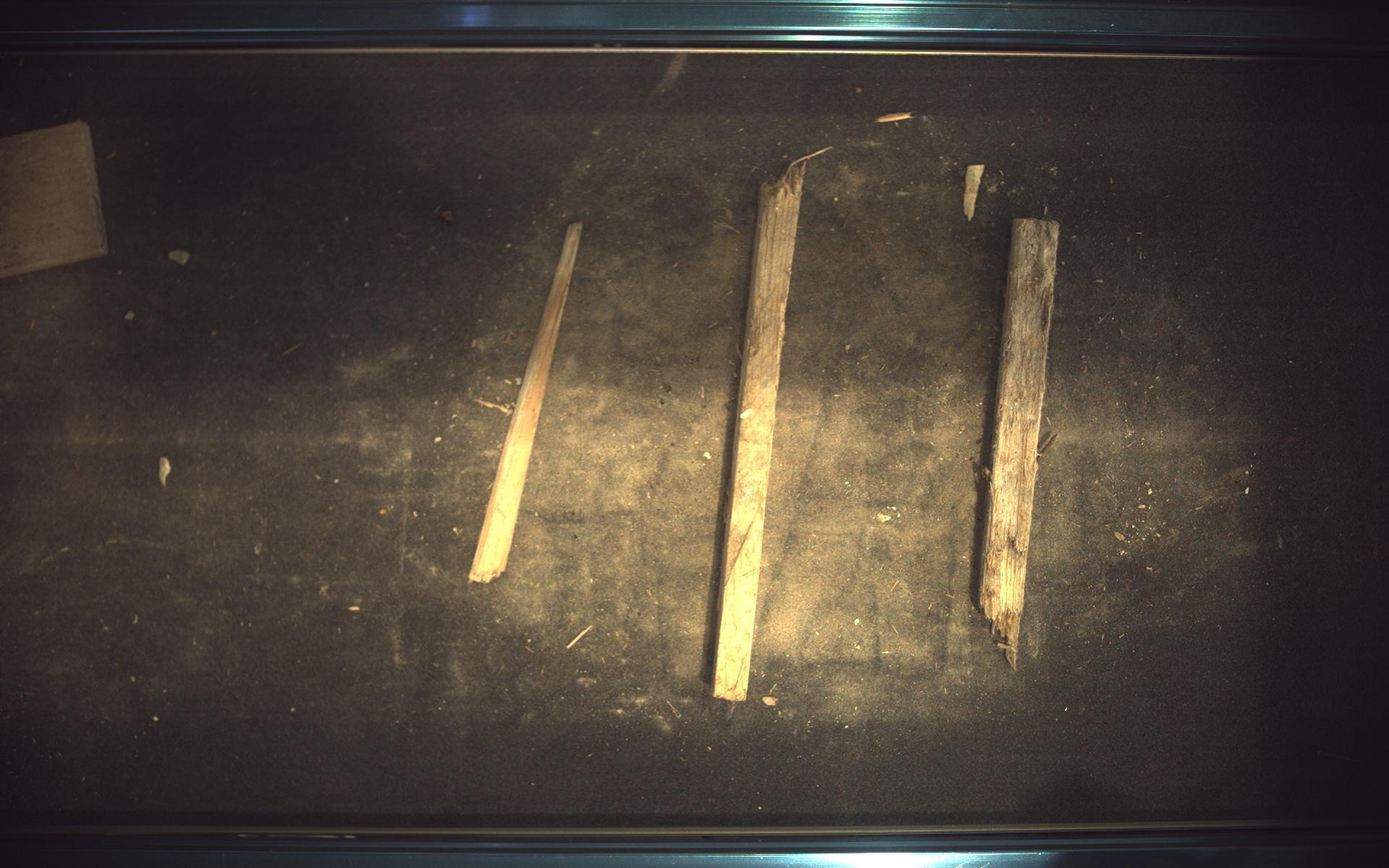wood: (714, 147, 833, 702), (470, 221, 583, 584), (982, 218, 1061, 668)
